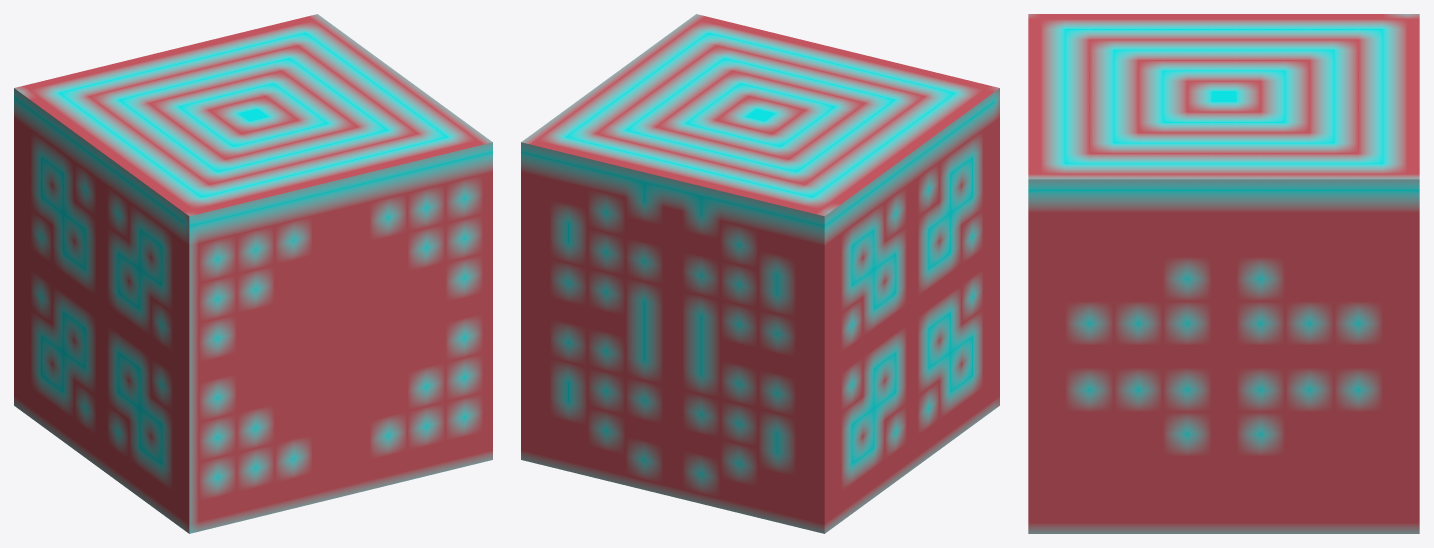
File: TileUVBase.dae
The picture shows the model from 3 angles, left to right: view 1: azimuth 30°, elevation 25°; view 2: azimuth 150°, elevation 25°; view 3: azimuth 270°, elevation 25°; orthographic projection. The views are drawn at different scales.
Parts seen in each view (by area): view 1: Cube; view 2: Cube; view 3: Cube.
Part boxes in pixels (x1=…): Cube: x1=14, y1=14, x2=492, y2=533; Cube: x1=521, y1=14, x2=999, y2=533; Cube: x1=1028, y1=14, x2=1419, y2=533.
Size of the model in its own units: 2 by 2 by 2.
Materials: 1 (1 with a texture image).
